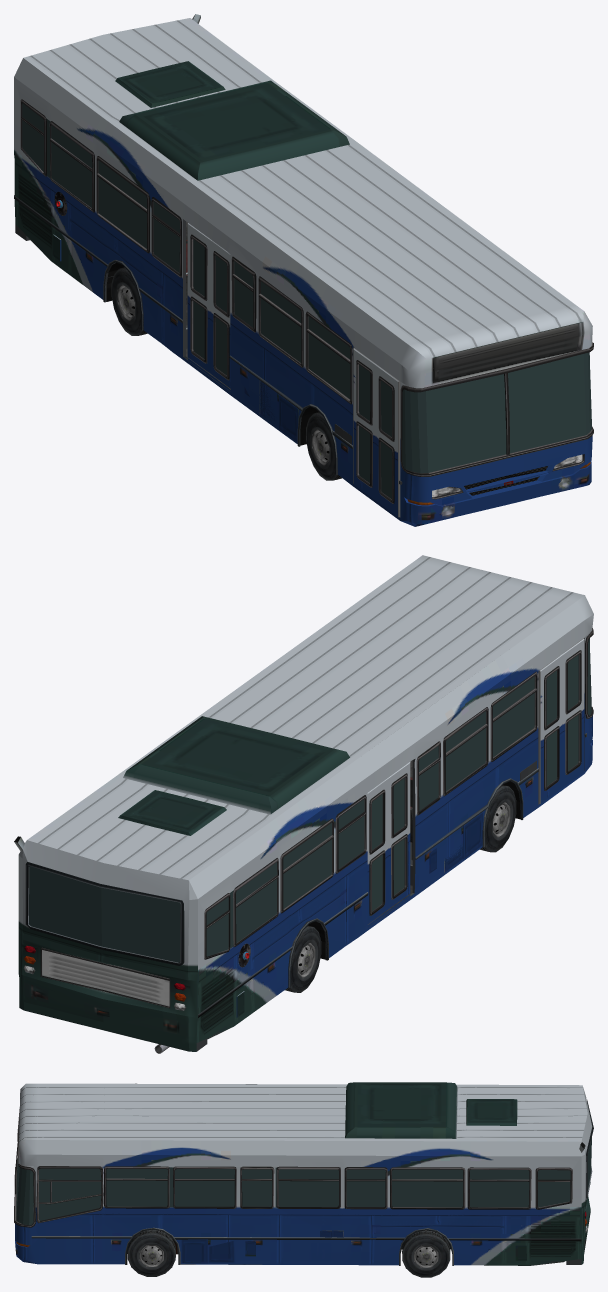
3 views of the same model, one above another, from view 1: azimuth 30°, elevation 25°; view 2: azimuth 150°, elevation 25°; view 3: azimuth 270°, elevation 25° (orthographic). The views are drawn at different scales.
Parts seen in each view (by area): view 1: ve_Bus_SP, Glass, Door00, Door01, Door03, Door02, BTire_RR, BTire_FR; view 2: ve_Bus_SP, Glass, Door03, Door02, Door01, Door00, BTire_FR, BTire_RR; view 3: ve_Bus_SP, Glass, BTire_RL, BTire_FL.
Boxes of the visible parts, box(x1,y1,x2,y2) form: ve_Bus_SP: box(14, 14, 593, 526); Glass: box(22, 103, 591, 473); Door00: box(187, 223, 211, 376); Door01: box(376, 364, 400, 517); Door03: box(353, 348, 376, 500); Door02: box(210, 239, 230, 391); BTire_RR: box(111, 267, 147, 335); BTire_FR: box(306, 412, 341, 480); ve_Bus_SP: box(14, 555, 593, 1051); Glass: box(28, 639, 591, 962); Door03: box(538, 654, 562, 803); Door02: box(387, 762, 410, 912); Door01: box(561, 638, 584, 787); Door00: box(367, 778, 388, 927); BTire_FR: box(480, 785, 516, 852); BTire_RR: box(285, 925, 321, 992); ve_Bus_SP: box(14, 1082, 593, 1265); Glass: box(16, 1106, 591, 1225); BTire_RL: box(402, 1230, 450, 1277); BTire_FL: box(127, 1229, 175, 1276).
Size of the model in its own units: 24.7 by 24.77 by 91.73.
